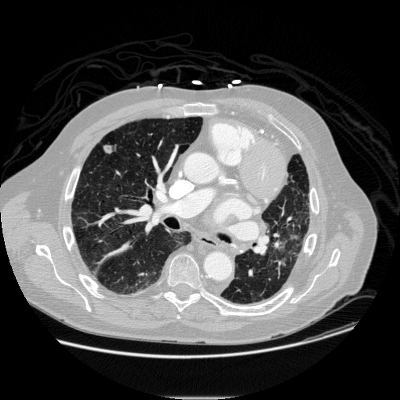nodule: (104, 144, 114, 154)
